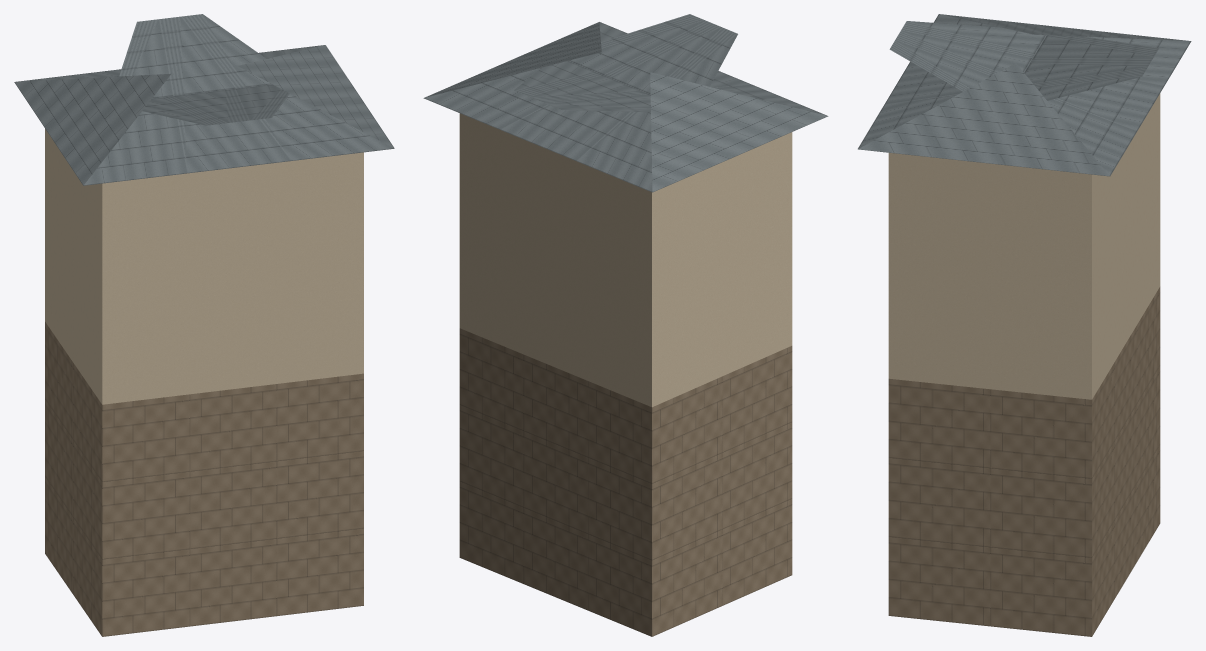
The model's file is bld_c8_18_424.gltf.
3 renders of one model, left to right at view 1: azimuth 30°, elevation 25°; view 2: azimuth 150°, elevation 25°; view 3: azimuth 270°, elevation 25°, orthographic. The views are drawn at different scales.
Visible parts, largest first — view 1: bld_c8_18_424; view 2: bld_c8_18_424; view 3: bld_c8_18_424.
Part boxes in pixels (x1,y1,x2,y2): bld_c8_18_424: (14, 14, 394, 636); bld_c8_18_424: (423, 14, 828, 636); bld_c8_18_424: (858, 14, 1191, 636).
Size of the model in its own units: 7.5 by 11.2 by 6.51.
3 materials, 3 textured.
